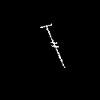treble_crochet: (41, 24, 63, 65)
